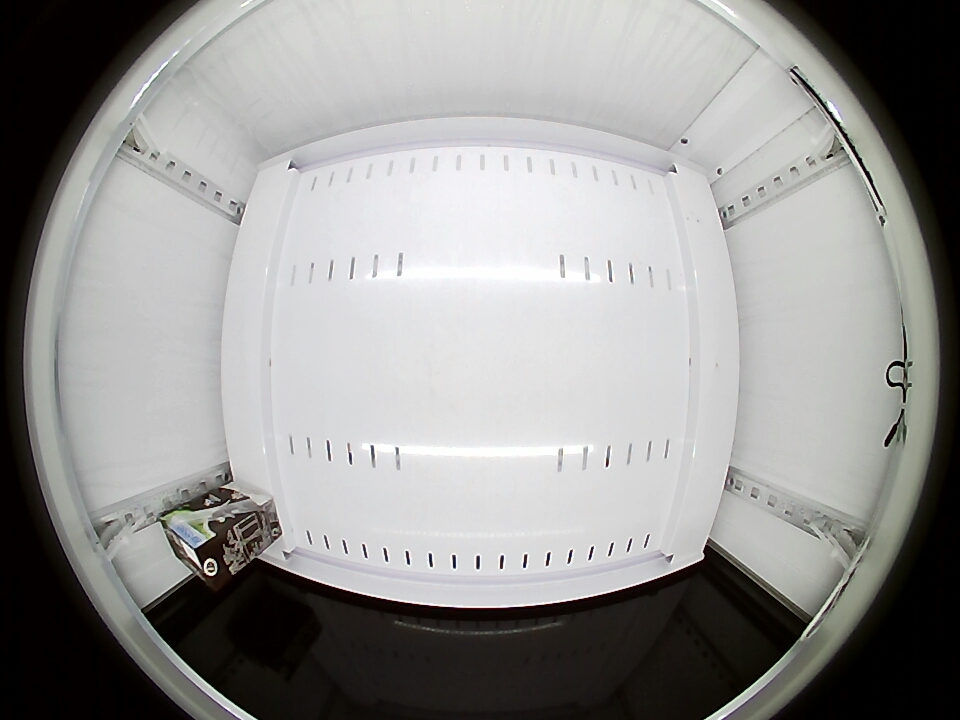weitanai2: (160, 509, 238, 588)
